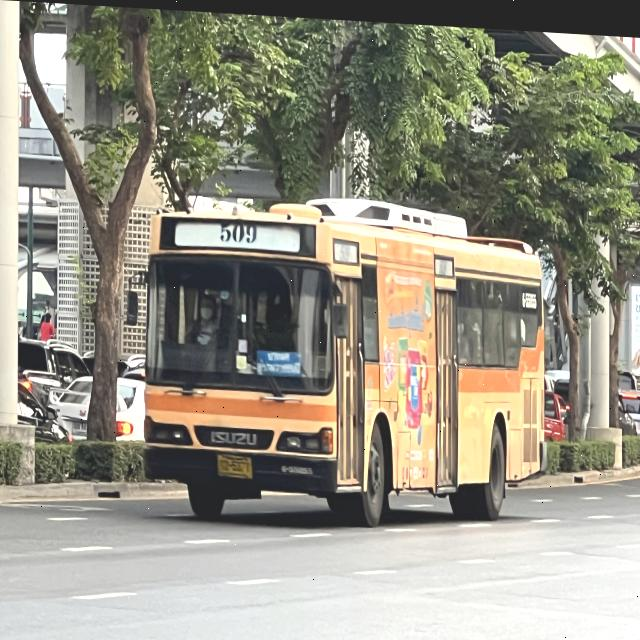BMTA-bus: (135, 180, 552, 541)
Bus-Line-Number: (211, 213, 268, 246)
Destination-Sign-Normal: (257, 346, 302, 372)
